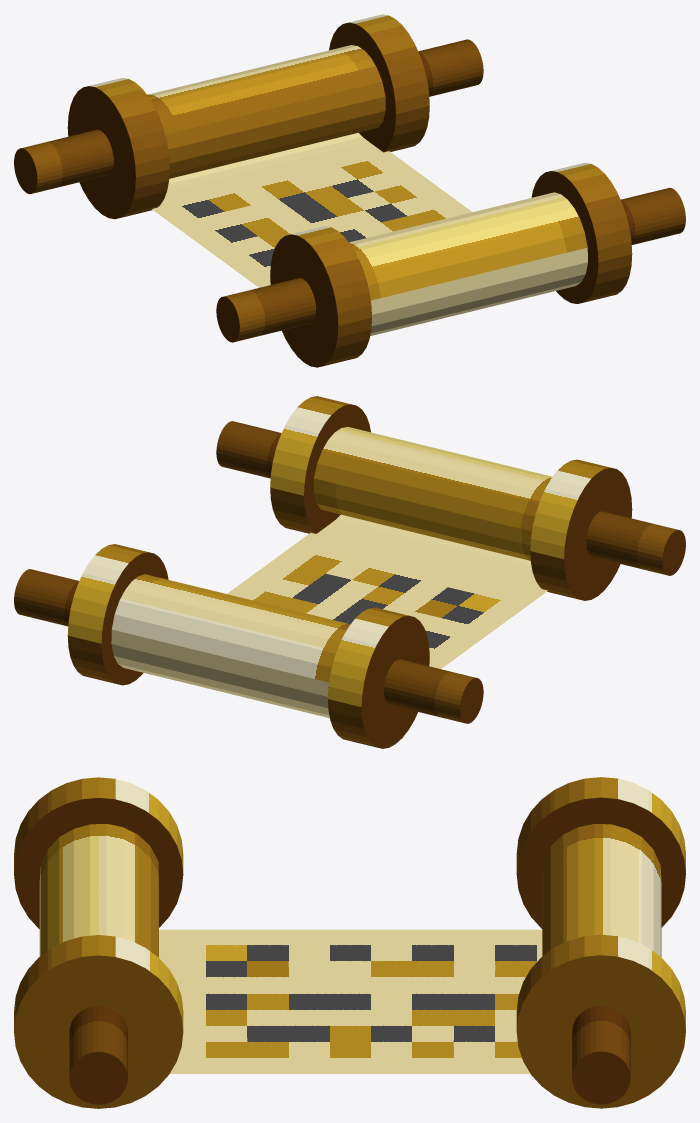
The model's file is scroll_797_01.obj.
The picture shows the model from 3 angles, top to bottom: view 1: azimuth 30°, elevation 25°; view 2: azimuth 150°, elevation 25°; view 3: azimuth 270°, elevation 25°; orthographic projection. The views are drawn at different scales.
Visible parts, largest first — view 1: Cylinder; view 2: Cylinder; view 3: Cylinder.
Part boxes in pixels (box(x1,y1,x2,y2)): Cylinder: box(14, 14, 685, 367); Cylinder: box(14, 396, 685, 748); Cylinder: box(14, 777, 685, 1108).
Bounding box in the file's own units: 2.2 × 0.583 × 2.31.
